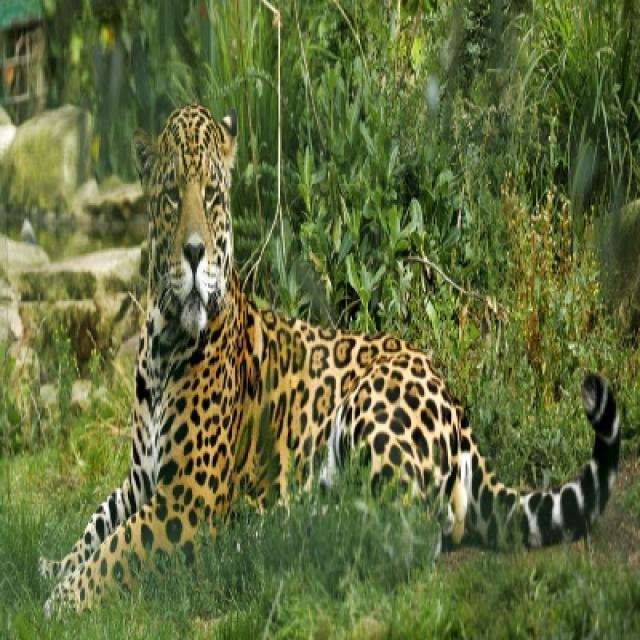Jaguar: (56, 104, 618, 600)
